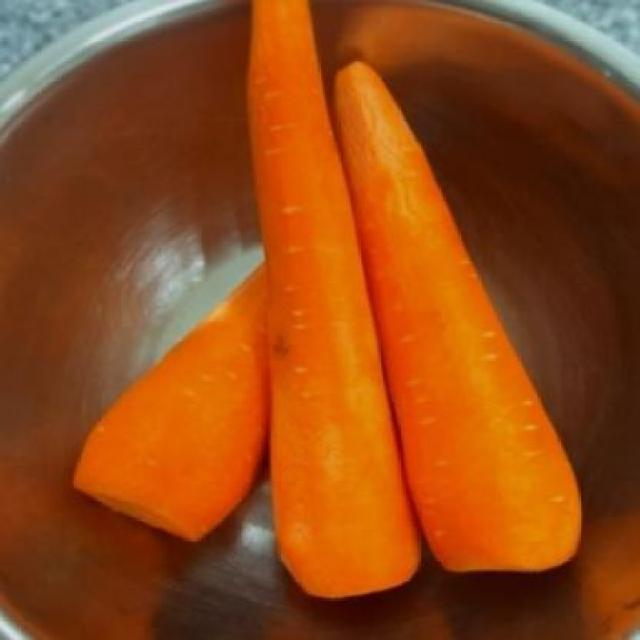carrot: (324, 48, 588, 584), (233, 4, 424, 614), (70, 248, 278, 546)
